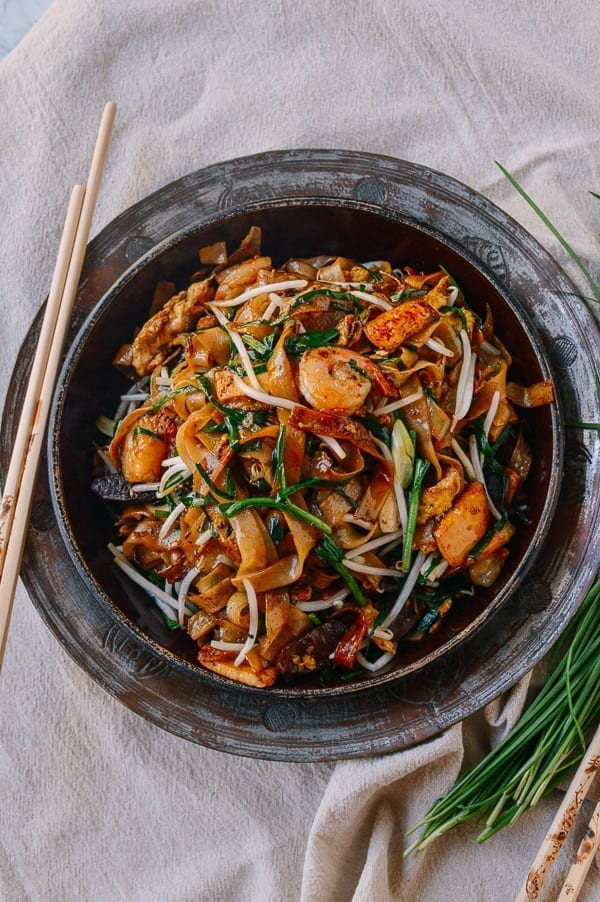Char Kway Teow: (83, 235, 547, 679)
